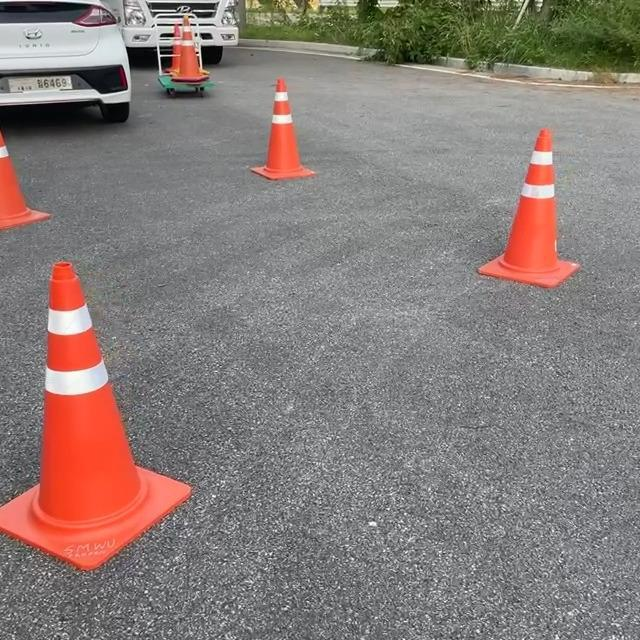fallen_object: (3, 252, 227, 564), (459, 115, 608, 288), (237, 67, 346, 215), (0, 140, 54, 227), (165, 22, 214, 97)
